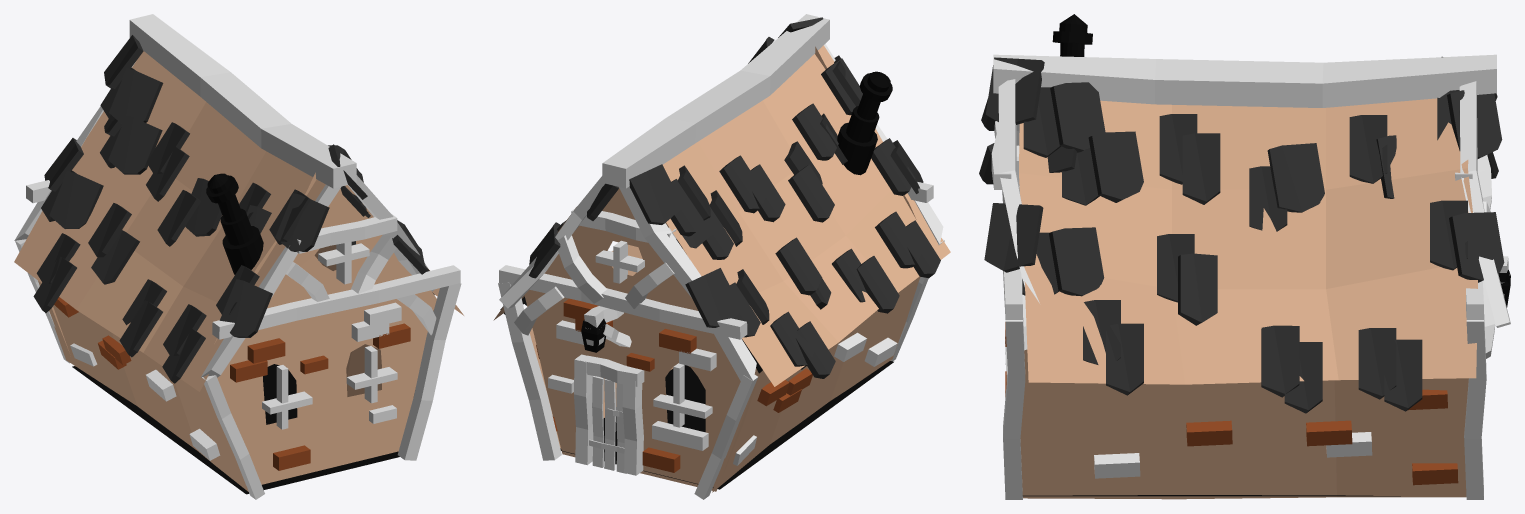
File: HouseBlender.fbx
3 views of the same model, side by side, from view 1: azimuth 30°, elevation 25°; view 2: azimuth 150°, elevation 25°; view 3: azimuth 270°, elevation 25° (orthographic). The views are drawn at different scales.
Parts seen in each view (by area): view 1: Cube.113; view 2: Cube.113; view 3: Cube.113.
Boxes of the visible parts, left/top/right/bottom form: Cube.113: left=14, top=14, right=463, bottom=499; Cube.113: left=493, top=14, right=950, bottom=499; Cube.113: left=979, top=14, right=1510, bottom=499.
Size of the model in its own units: 374 by 384 by 461.
